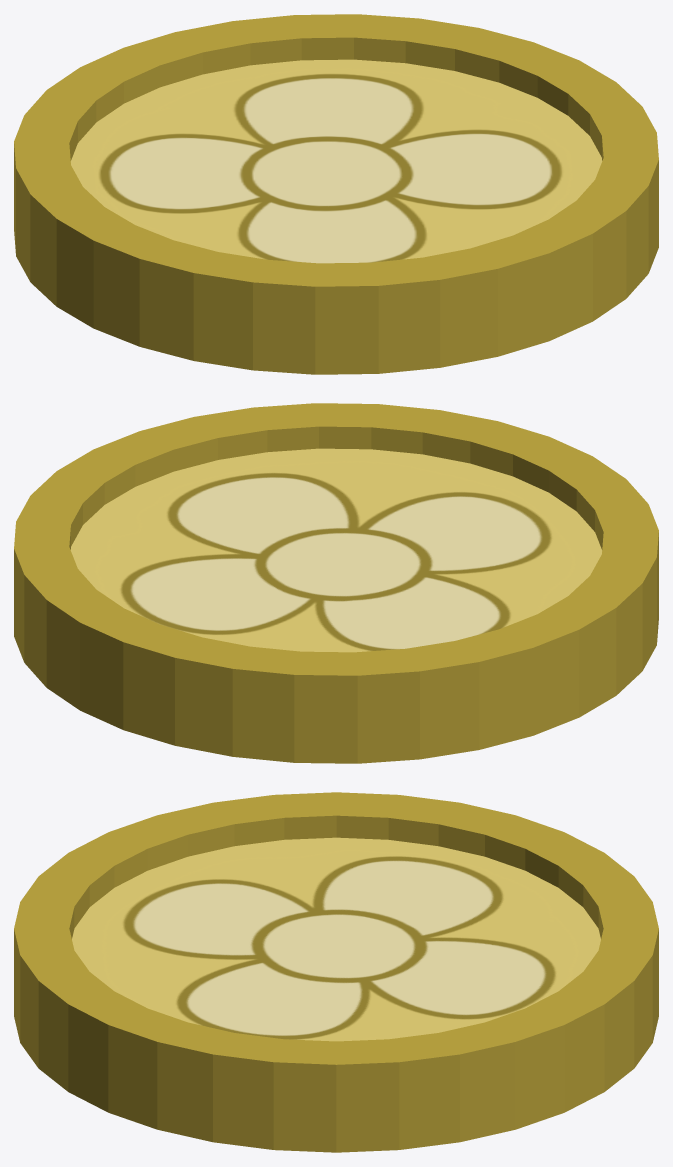
The model's file is coin.fbx.
3 renders of one model, top to bottom at view 1: azimuth 30°, elevation 25°; view 2: azimuth 150°, elevation 25°; view 3: azimuth 270°, elevation 25°, orthographic.
Parts seen in each view (by area): view 1: Cylinder; view 2: Cylinder; view 3: Cylinder.
Boxes of the visible parts, box(x1,y1,x2,y2) form: Cylinder: box(14, 14, 658, 374); Cylinder: box(14, 403, 658, 763); Cylinder: box(14, 792, 658, 1152).
Bounding box in the file's own units: 412 × 61.95 × 412.
Materials: 1 (1 with a texture image).
